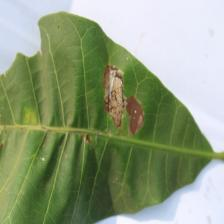leaf miner: (0, 10, 223, 224), (101, 64, 125, 130)
